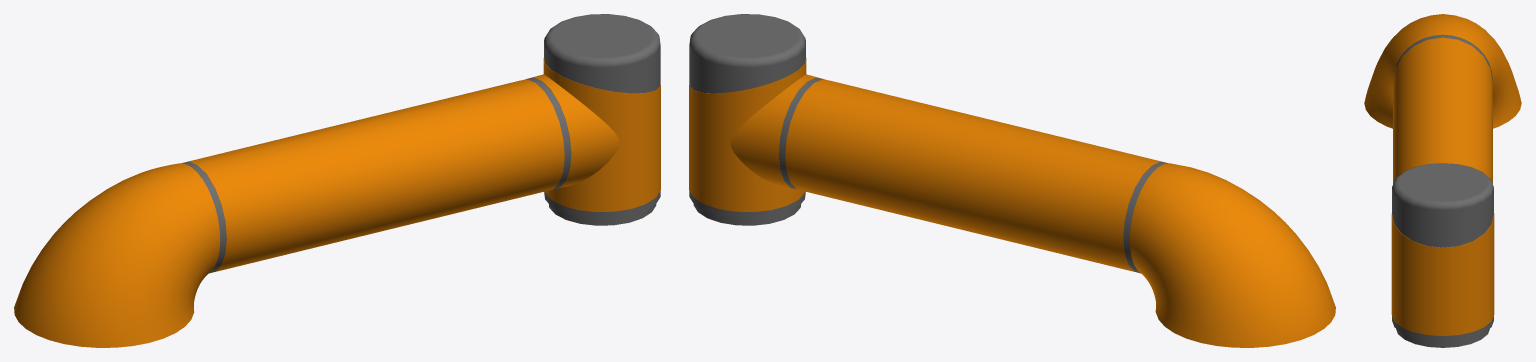
3 views of the same model, side by side, from view 1: azimuth 30°, elevation 25°; view 2: azimuth 150°, elevation 25°; view 3: azimuth 270°, elevation 25° (orthographic). The views are drawn at different scales.
Visible parts, largest first — view 1: FBXASC195FBXASC149FBXASC195FBXASC179FBXASC195FBXASC129FBXASC; view 2: FBXASC195FBXASC149FBXASC195FBXASC179FBXASC195FBXASC129FBXASC; view 3: FBXASC195FBXASC149FBXASC195FBXASC179FBXASC195FBXASC129FBXASC.
Part boxes in pixels (bbox=[...]): FBXASC195FBXASC149FBXASC195FBXASC179FBXASC195FBXASC129FBXASC: bbox=[14, 14, 660, 347]; FBXASC195FBXASC149FBXASC195FBXASC179FBXASC195FBXASC129FBXASC: bbox=[689, 14, 1335, 347]; FBXASC195FBXASC149FBXASC195FBXASC179FBXASC195FBXASC129FBXASC: bbox=[1364, 14, 1521, 347].
Size of the model in its own units: 0.4735 by 0.118 by 0.1203.
